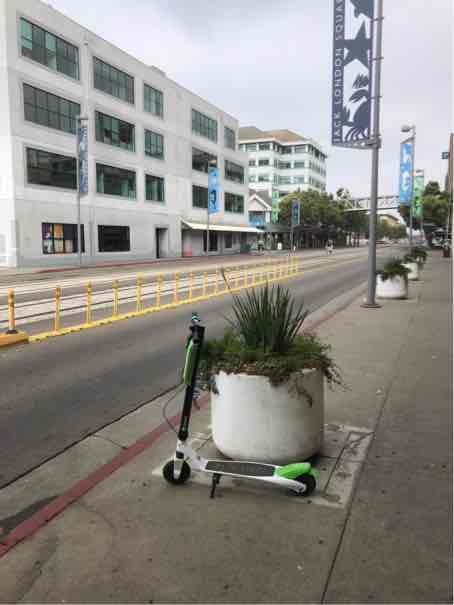scooter: (151, 307, 338, 505)
